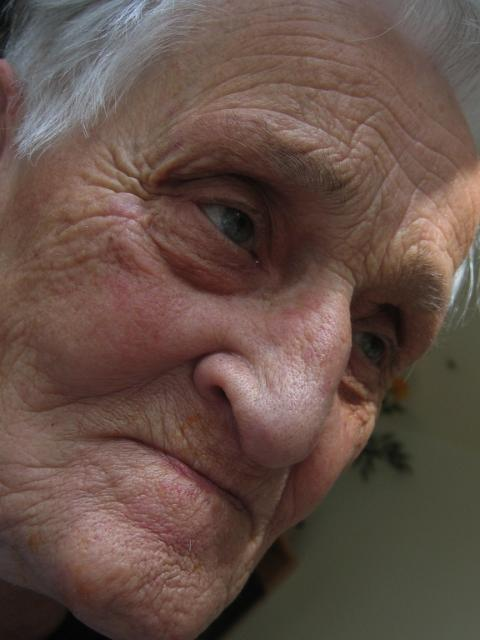chin: (147, 554, 187, 604), (15, 454, 65, 481)
crows_feet: (100, 154, 154, 216)
forehead: (350, 78, 394, 146), (368, 163, 434, 203), (282, 24, 338, 64), (392, 116, 442, 158), (278, 108, 339, 142), (286, 66, 336, 104), (218, 78, 266, 116)
frown_line: (342, 211, 376, 271)
gummy_smile: (52, 377, 134, 411), (262, 470, 294, 526)
smoker_lines: (156, 401, 192, 454)
